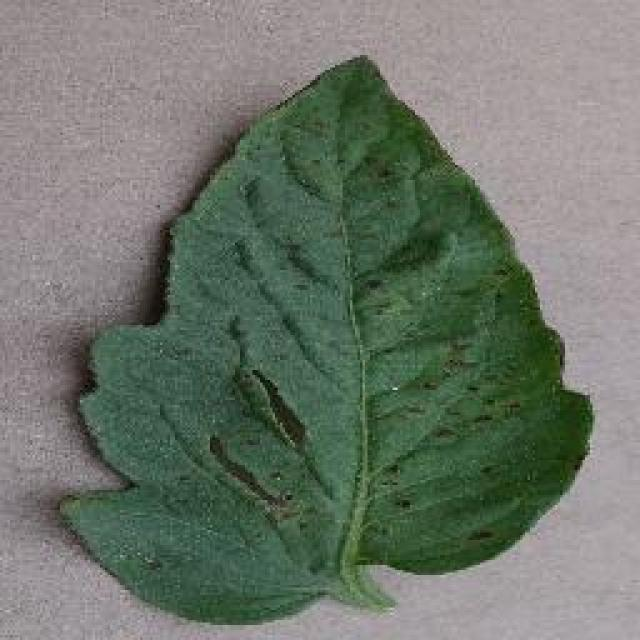Tomato bacterial spot leaf: (78, 59, 582, 621)
